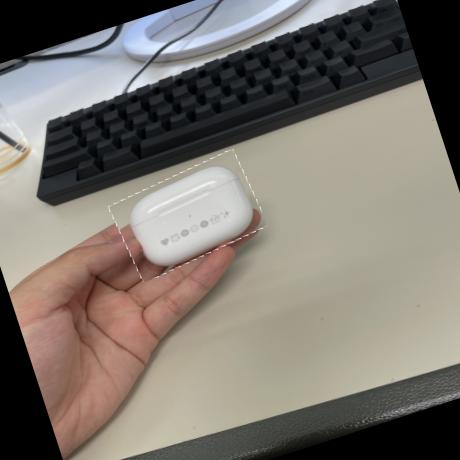airpod3: (107, 150, 270, 281)
